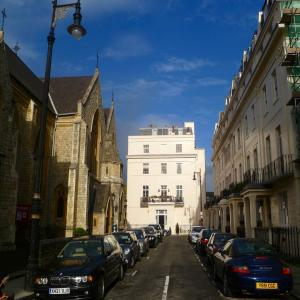Vehicle-registration-plate: (49, 288, 71, 296), (257, 284, 278, 290)
